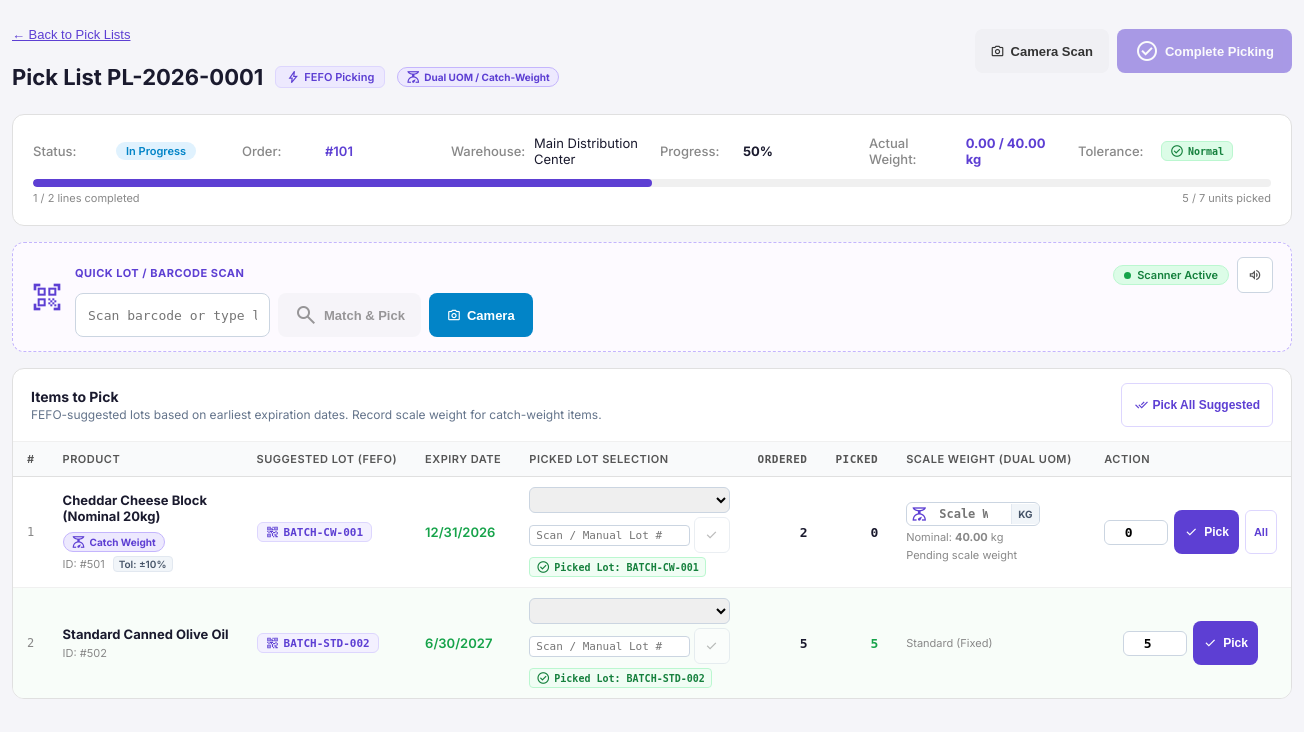
Test: PickListDetailView (Catch-Weight & Dual UOM) › shows live within-tolerance calculation when valid scale weight is entered
The width and height of the screenshot is (1304, 732).
Set scale weight to 42.0 kg (+5% on 40kg nominal, within ±10%)
Type "42" into the number field with placeholder "Scale Weight (Dual UOM)" at coordinates (971, 514), box [931, 503, 1011, 525]
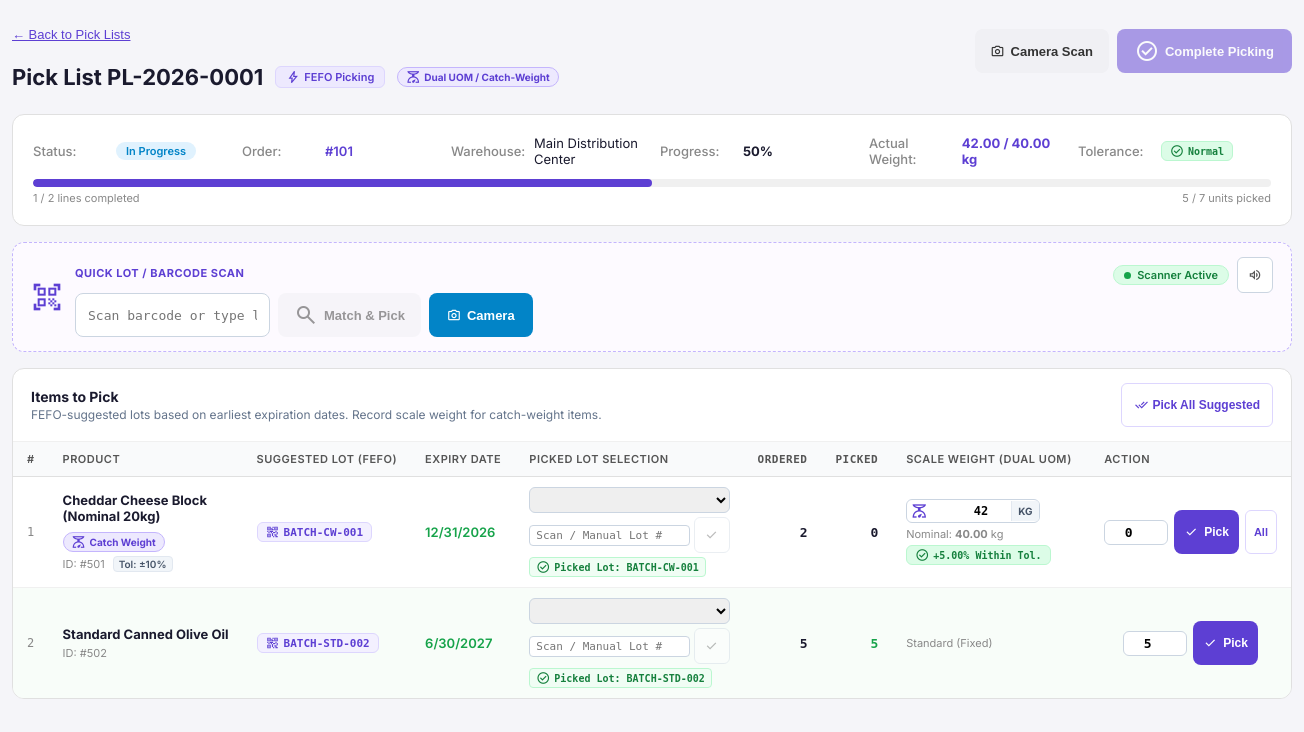
Check: the element with class "badge-tolerance-within" showing "Normal" is shown, box [1161, 141, 1233, 161]
Check: the text "+5.00%" is shown, box [933, 550, 1042, 560]
Check: the text "Within Tol." is shown, box [933, 550, 1042, 560]
